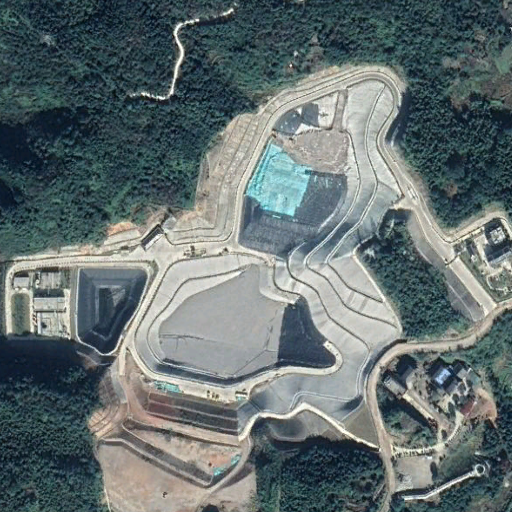lf: (123, 69, 403, 393)
